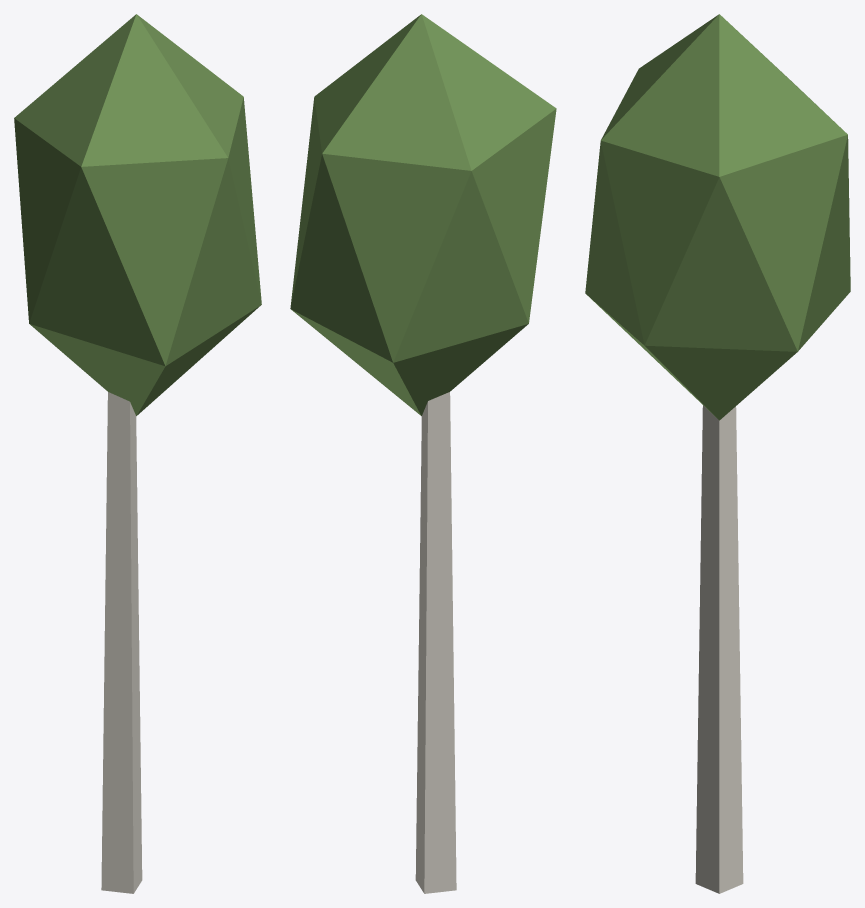
File: tree_birch_lod2.glb
The picture shows the model from 3 angles, left to right: view 1: azimuth 30°, elevation 25°; view 2: azimuth 150°, elevation 25°; view 3: azimuth 270°, elevation 25°; orthographic projection.
Parts seen in each view (by area): view 1: tree_birch_lod2; view 2: tree_birch_lod2; view 3: tree_birch_lod2.
Part boxes in pixels (left/top/right/bottom): tree_birch_lod2: left=14, top=14, right=261, bottom=893; tree_birch_lod2: left=290, top=14, right=556, bottom=893; tree_birch_lod2: left=585, top=14, right=850, bottom=893.
Size of what is drawn, in the model's own units: 1.47 by 5.69 by 1.56.
Materials: 1 (1 with a texture image).
